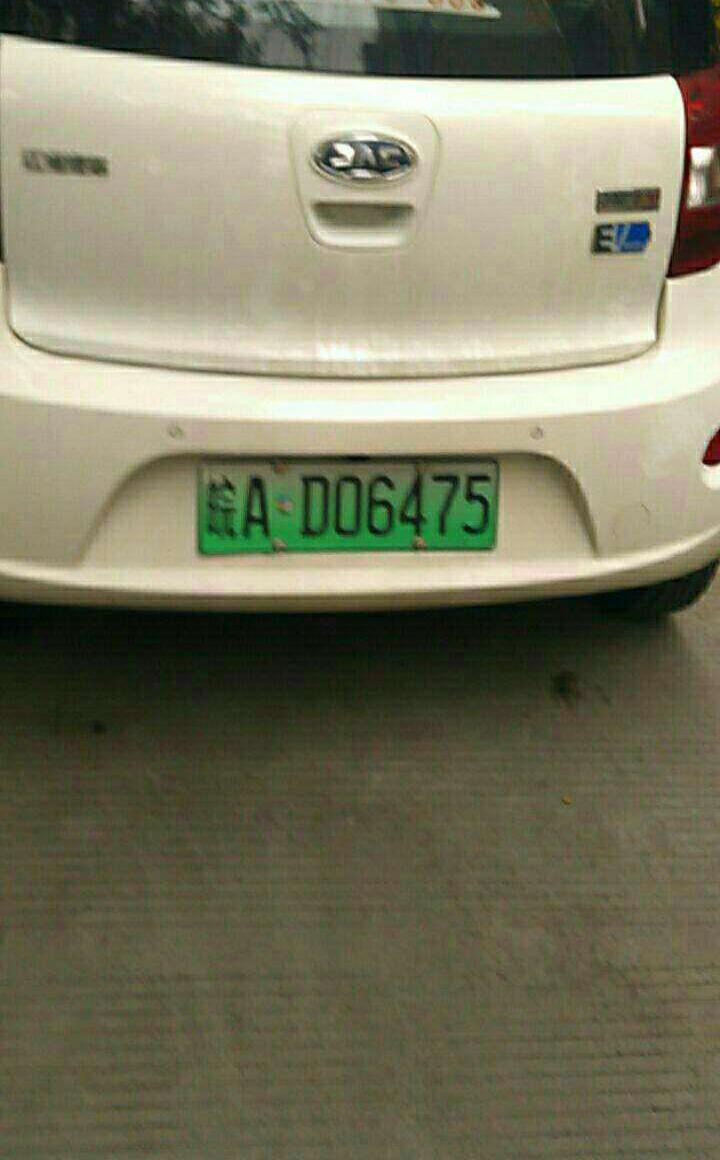car: (188, 457, 506, 551)
